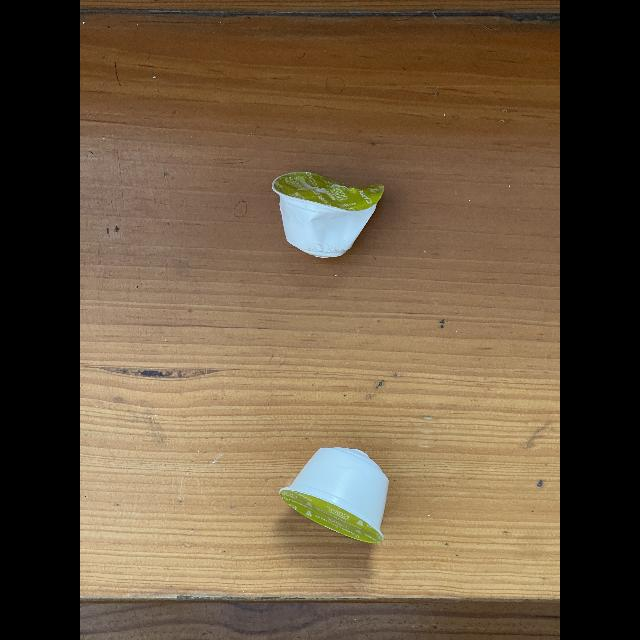damaged_capsule: (268, 163, 394, 269)
intact_capsule: (282, 437, 402, 555)
